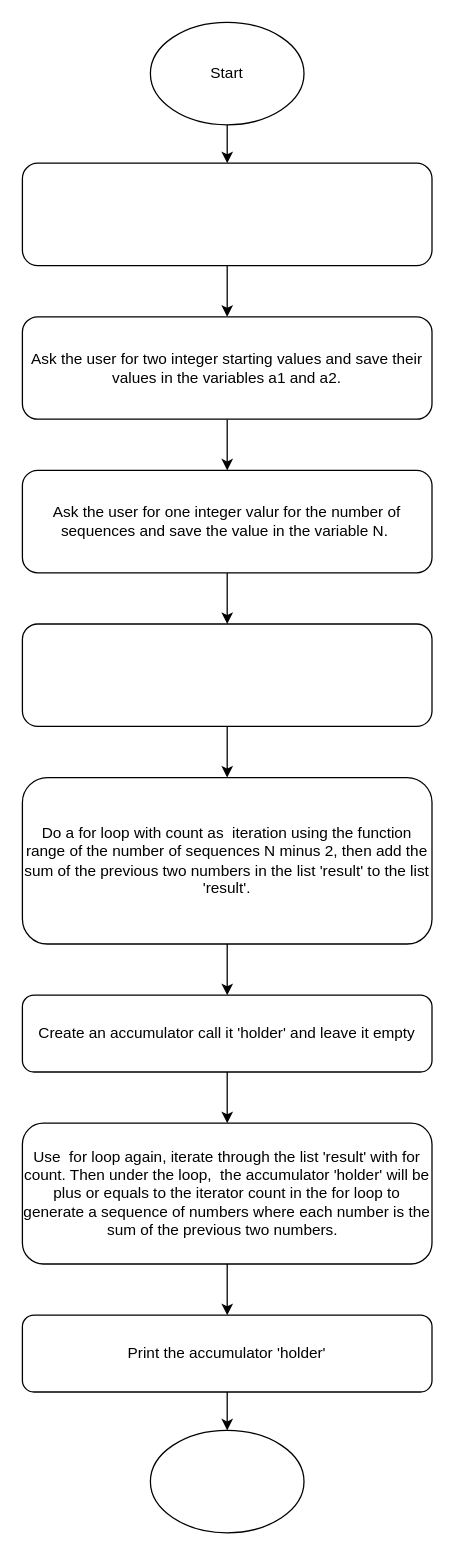
The diagram is 454 pixels wide and 1555 high, and some of its shapes have lost their labels. The box of each missing label's shape, as (x1, y1, x2, y2) in pixels:
Add the two starting integer values to the list 'result': (21, 623, 432, 726)
End: (149, 1429, 304, 1533)
Start by creating a list , call it 'result': (21, 162, 432, 266)
